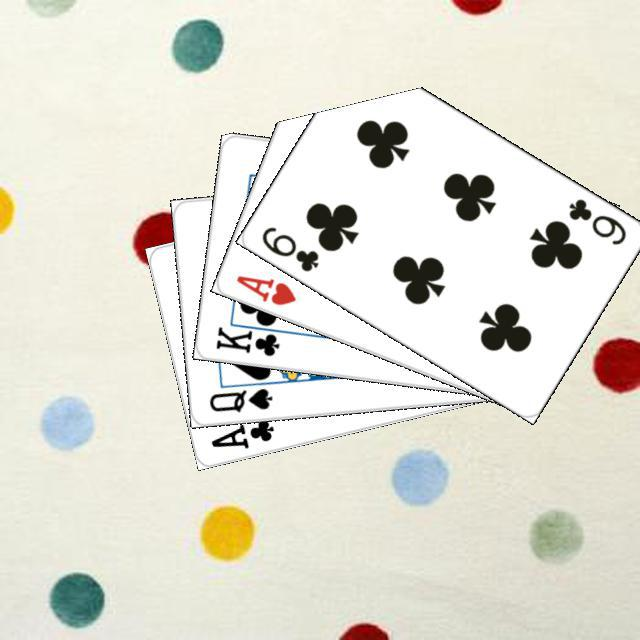6c: (563, 193, 628, 247), (256, 221, 321, 274)
Ac: (206, 414, 276, 450)
Ah: (231, 270, 298, 308)
Kc: (210, 316, 290, 358)
Qs: (204, 383, 274, 414)
